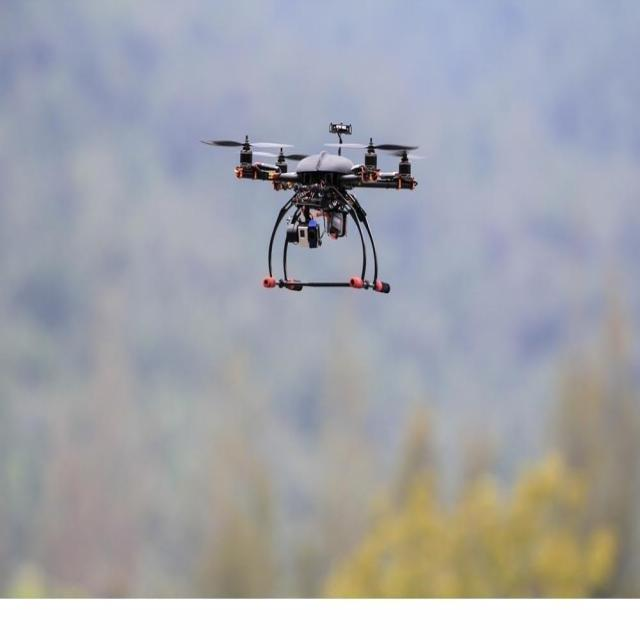UAV: (233, 121, 418, 296)
